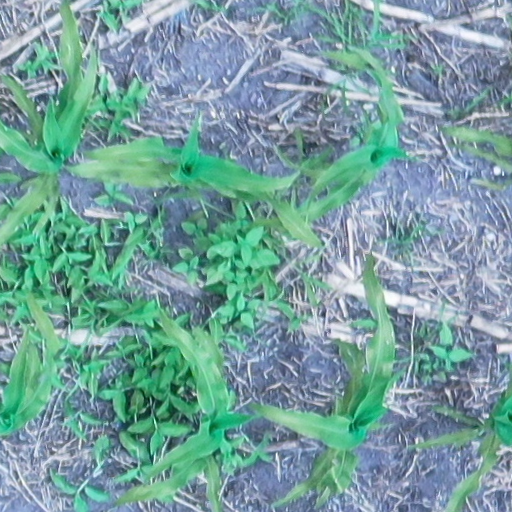planta: (247, 251, 398, 507), (68, 114, 325, 248), (249, 45, 412, 230)
